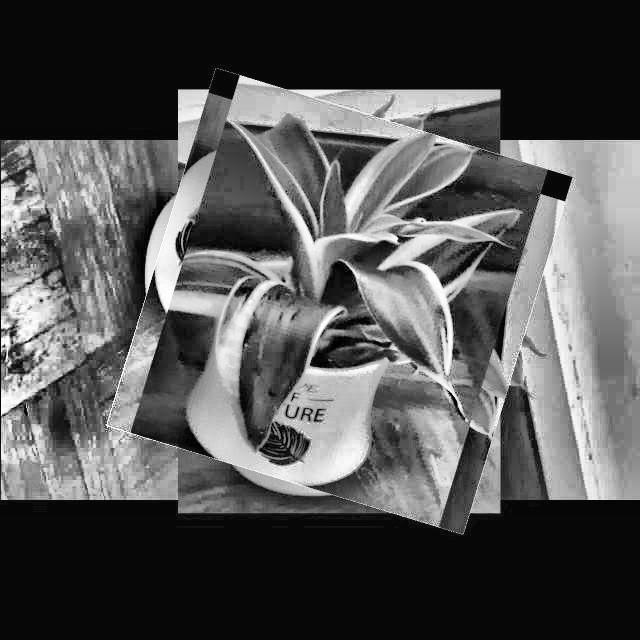plants: (129, 91, 549, 512)
